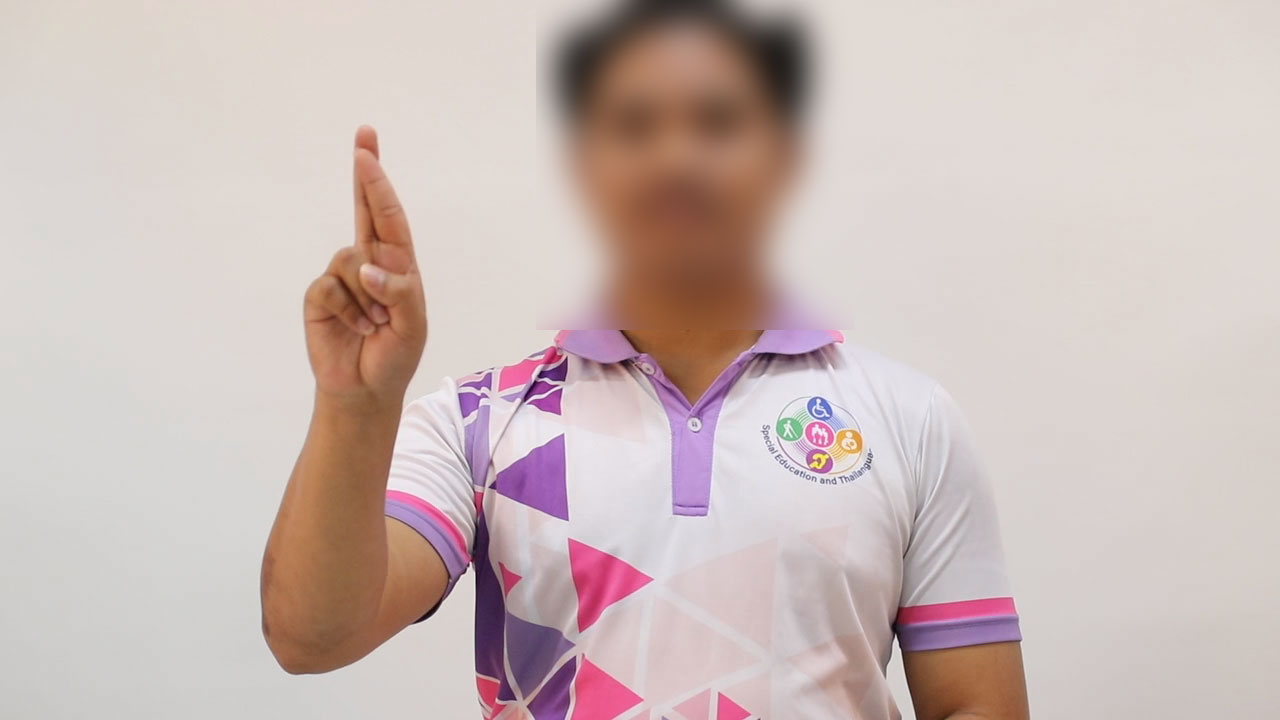rao: (268, 119, 442, 407)
